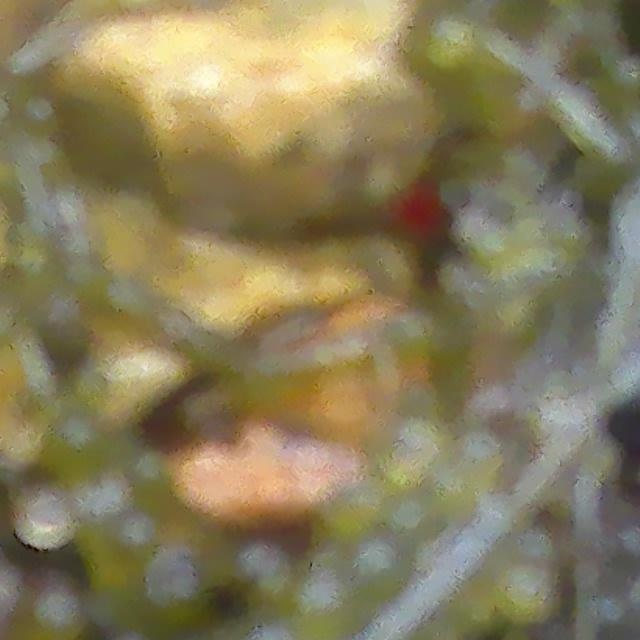SeaGrape: (17, 490, 73, 548)
